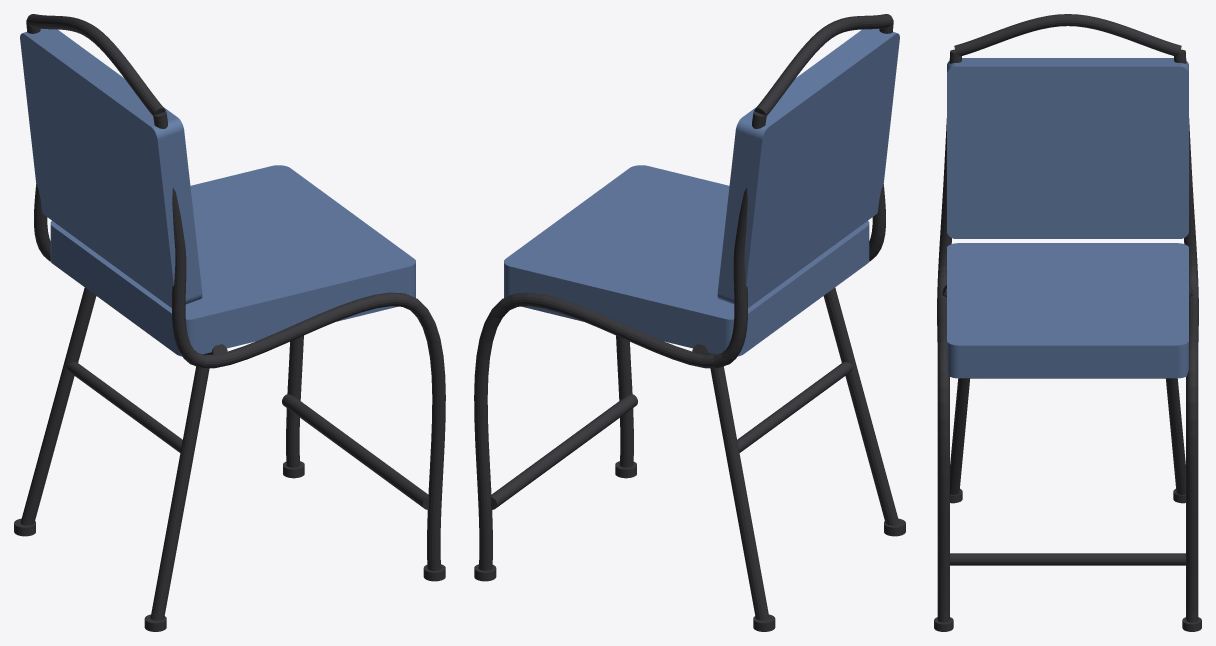
File: appearance.glb
3 views of the same model, side by side, from view 1: azimuth 30°, elevation 25°; view 2: azimuth 150°, elevation 25°; view 3: azimuth 270°, elevation 25° (orthographic). The views are drawn at different scales.
Visible parts, largest first — view 1: visual_0_0, visual_1_0; view 2: visual_0_0, visual_1_0; view 3: visual_0_0, visual_1_0.
Boxes of the visible parts, x1=… form: visual_0_0: x1=20, y1=14, x2=445, y2=581; visual_1_0: x1=14, y1=287, x2=209, y2=631; visual_0_0: x1=474, y1=14, x2=899, y2=581; visual_1_0: x1=710, y1=287, x2=905, y2=631; visual_0_0: x1=934, y1=14, x2=1201, y2=631; visual_1_0: x1=950, y1=378, x2=1185, y2=503.
Size of the model in its own units: 0.4932 by 0.9055 by 0.442.
